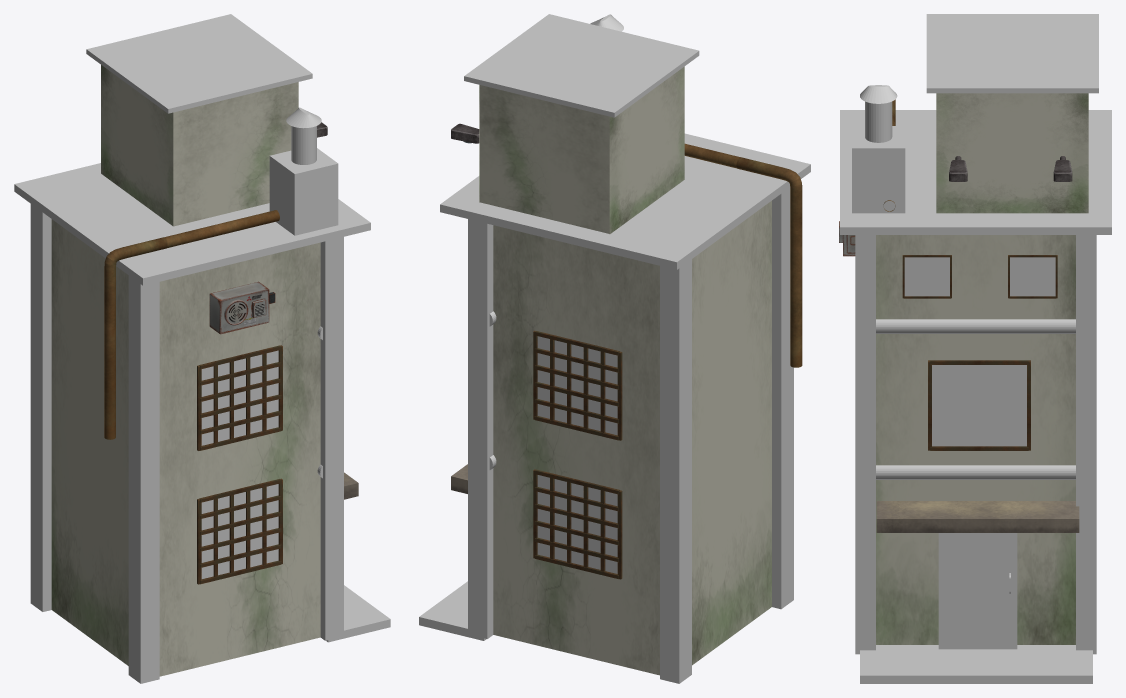
Rendered from Nha 3.3.fbx.
3 renders of one model, left to right at view 1: azimuth 30°, elevation 25°; view 2: azimuth 150°, elevation 25°; view 3: azimuth 270°, elevation 25°, orthographic. The views are drawn at different scales.
Visible parts, largest first — view 1: tuong vang 1.001, cot ngang 4.002, tuong vang 1.003, cot ngang 2.002, Cube.050, thanh cua rir sets .021, thanh cua rir sets .020, Cube.051, Cube.053, Cube.057, Cube.056, Cube.055 (+6 smaller); view 2: tuong vang 1.001, tuong vang 1.003, cot ngang 4.002, cot ngang 2.002, Cube.050, thanh cua rir sets .023, thanh cua rir sets .022, Cube.057, Cube.056, Cube.051, Cube.055, Ong ri set.005 (+3 smaller); view 3: tuong vang 1.001, tuong vang 1.003, cot ngang 2.002, thanh cua rir sets .024, cua go.005, cot ngang 3.005, Cube.052, Them nha.007, Cube.057, Cube.056, Cube.053, Cube.055 (+7 smaller).
Part boxes in pixels (box(x1,y1,x2,y2)): tuong vang 1.001: box(51, 219, 320, 676); cot ngang 4.002: box(30, 204, 159, 683); tuong vang 1.003: box(101, 65, 298, 226); cot ngang 2.002: box(320, 237, 343, 640); Cube.050: box(14, 170, 202, 285); thanh cua rir sets .021: box(197, 478, 282, 584); thanh cua rir sets .020: box(197, 345, 282, 450); Cube.051: box(73, 163, 284, 271); Cube.053: box(269, 148, 338, 235); Cube.057: box(177, 14, 312, 91); Cube.056: box(124, 27, 258, 104); Cube.055: box(86, 40, 205, 113); tuong vang 1.001: box(493, 201, 771, 675); tuong vang 1.003: box(479, 66, 684, 234); cot ngang 4.002: box(660, 187, 793, 683); cot ngang 2.002: box(468, 219, 493, 638); Cube.050: box(615, 149, 810, 269); thanh cua rir sets .023: box(533, 469, 622, 579); thanh cua rir sets .022: box(533, 330, 622, 440); Cube.057: box(464, 14, 605, 94); Cube.056: box(520, 28, 659, 107); Cube.051: box(529, 133, 748, 254); Cube.055: box(575, 41, 699, 117); Ong ri set.005: box(736, 157, 802, 367); tuong vang 1.001: box(876, 235, 1075, 644); tuong vang 1.003: box(936, 93, 1088, 213); cot ngang 2.002: box(855, 235, 1096, 654); thanh cua rir sets .024: box(928, 360, 1030, 450); cua go.005: box(938, 533, 1017, 649); cot ngang 3.005: box(860, 645, 1092, 683); Cube.052: box(840, 182, 1111, 234); Them nha.007: box(876, 501, 1079, 532); Cube.057: box(926, 60, 1098, 93); Cube.056: box(926, 33, 1098, 60); Cube.053: box(852, 126, 905, 213); Cube.055: box(926, 14, 1098, 33).
Bounding box in the file's own units: 774 × 1474 × 638.
